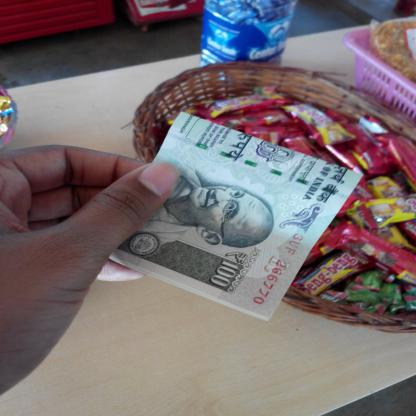Old100Front: (109, 110, 364, 321)
